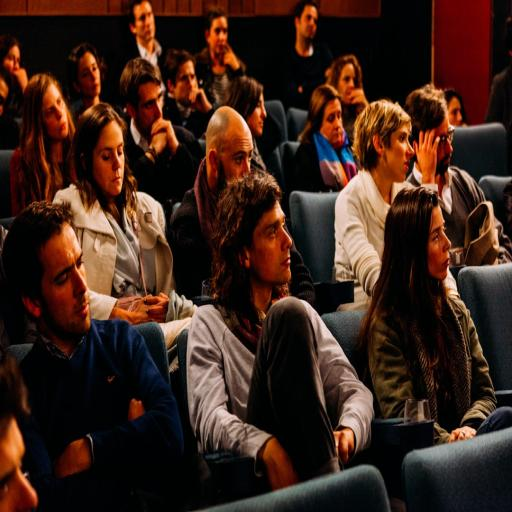face: (24, 223, 90, 351), (244, 202, 292, 295), (92, 121, 125, 204), (217, 121, 253, 191), (382, 125, 414, 183), (427, 205, 451, 281), (134, 82, 163, 139), (42, 83, 69, 142), (169, 60, 198, 106), (75, 52, 101, 99), (130, 1, 156, 44), (320, 98, 342, 148), (434, 115, 452, 174), (246, 92, 267, 138), (205, 16, 228, 56), (337, 62, 357, 104), (295, 5, 318, 41), (448, 96, 463, 127)
